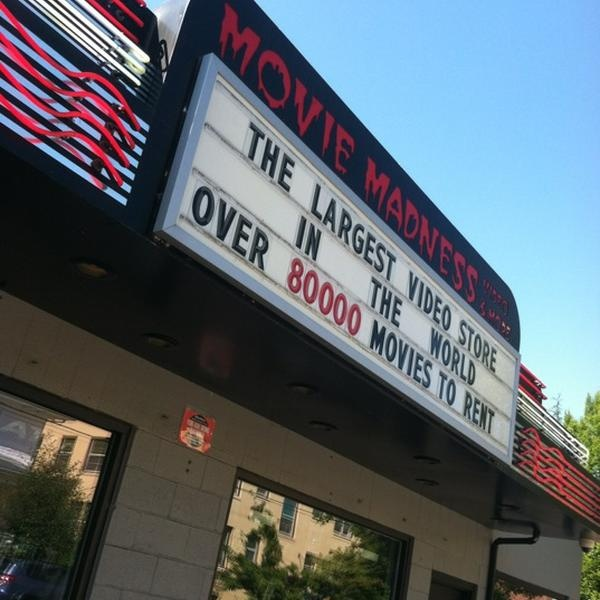text: (220, 1, 235, 181), (236, 1, 251, 181), (252, 1, 267, 181), (268, 1, 283, 181), (284, 1, 299, 181), (300, 1, 315, 181), (316, 1, 331, 181), (332, 1, 347, 181), (348, 1, 363, 181), (362, 156, 377, 308), (378, 156, 393, 308), (394, 156, 409, 308), (410, 156, 425, 308), (426, 156, 441, 308), (442, 156, 457, 308), (458, 156, 473, 308), (474, 156, 489, 308), (309, 183, 324, 285), (325, 183, 340, 285), (341, 183, 356, 285), (357, 183, 372, 285), (373, 183, 388, 285), (389, 183, 404, 285), (197, 181, 212, 273), (213, 181, 228, 273), (229, 181, 244, 273), (245, 181, 260, 273), (261, 181, 276, 273), (290, 254, 305, 339), (306, 254, 321, 339), (322, 254, 337, 339), (338, 254, 353, 339), (354, 254, 369, 339), (250, 121, 265, 194), (266, 121, 281, 194), (282, 121, 297, 194), (373, 318, 388, 391), (389, 318, 404, 391), (405, 318, 420, 391), (421, 318, 436, 391), (408, 269, 423, 333), (424, 269, 439, 333), (440, 269, 455, 333), (431, 325, 446, 388), (447, 325, 462, 388), (463, 325, 478, 388), (456, 316, 471, 374), (472, 316, 487, 374), (488, 316, 503, 374), (372, 276, 387, 330), (388, 276, 403, 330), (296, 216, 311, 262), (312, 216, 327, 262), (481, 297, 496, 342), (497, 297, 512, 342), (465, 391, 480, 436), (481, 391, 496, 436), (432, 370, 447, 408), (448, 370, 463, 408), (482, 278, 497, 313), (498, 278, 513, 313), (6, 414, 21, 448), (22, 414, 37, 448), (38, 414, 53, 448), (181, 430, 196, 452), (197, 430, 212, 452), (185, 419, 200, 435), (201, 419, 216, 435)
